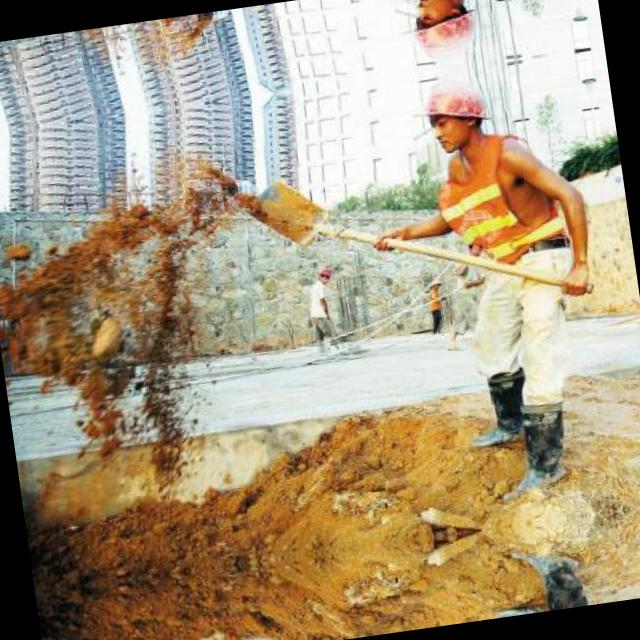helmet: (412, 74, 497, 160), (398, 0, 483, 64), (315, 265, 335, 287)
